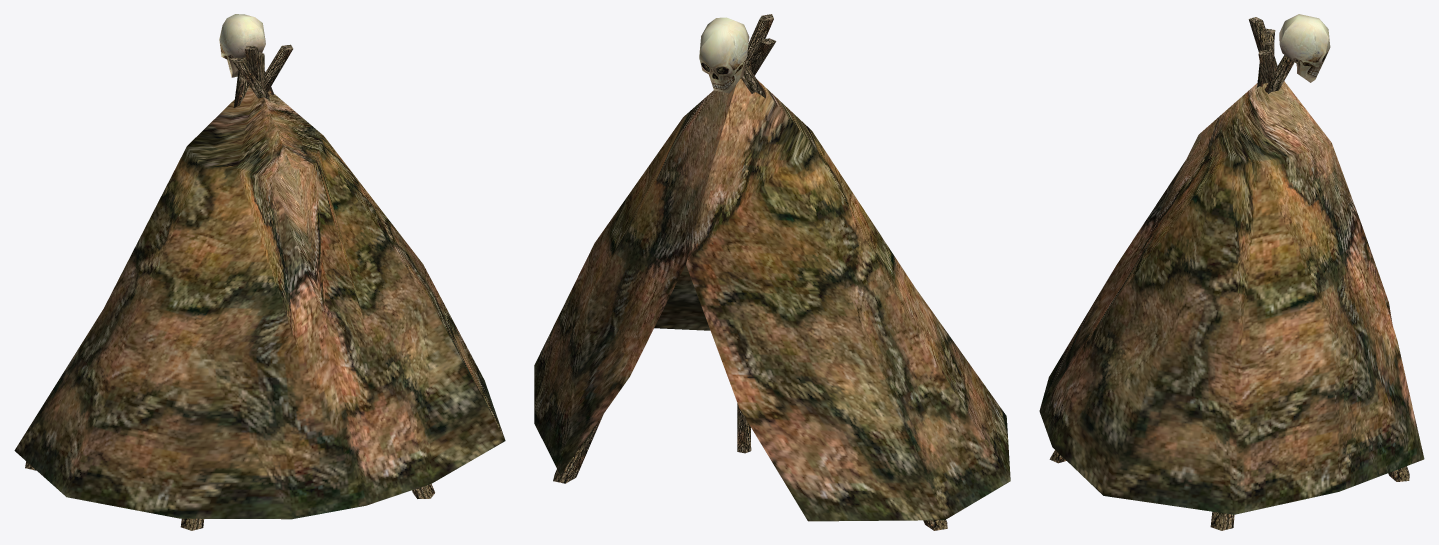
Rendered from hr_ps_tent1.glb.
The picture shows the model from 3 angles, left to right: view 1: azimuth 30°, elevation 25°; view 2: azimuth 150°, elevation 25°; view 3: azimuth 270°, elevation 25°; orthographic projection. The views are drawn at different scales.
Visible parts, largest first — view 1: hr_ps_tent1-col; view 2: hr_ps_tent1-col; view 3: hr_ps_tent1-col.
Part boxes in pixels (<box>): hr_ps_tent1-col: <box>14,14,505,530</box>; hr_ps_tent1-col: <box>534,14,1010,530</box>; hr_ps_tent1-col: <box>1039,14,1424,530</box>.
Bounding box in the file's own units: 4.52 × 4.13 × 3.49.
Materials: 3 (3 with a texture image).
